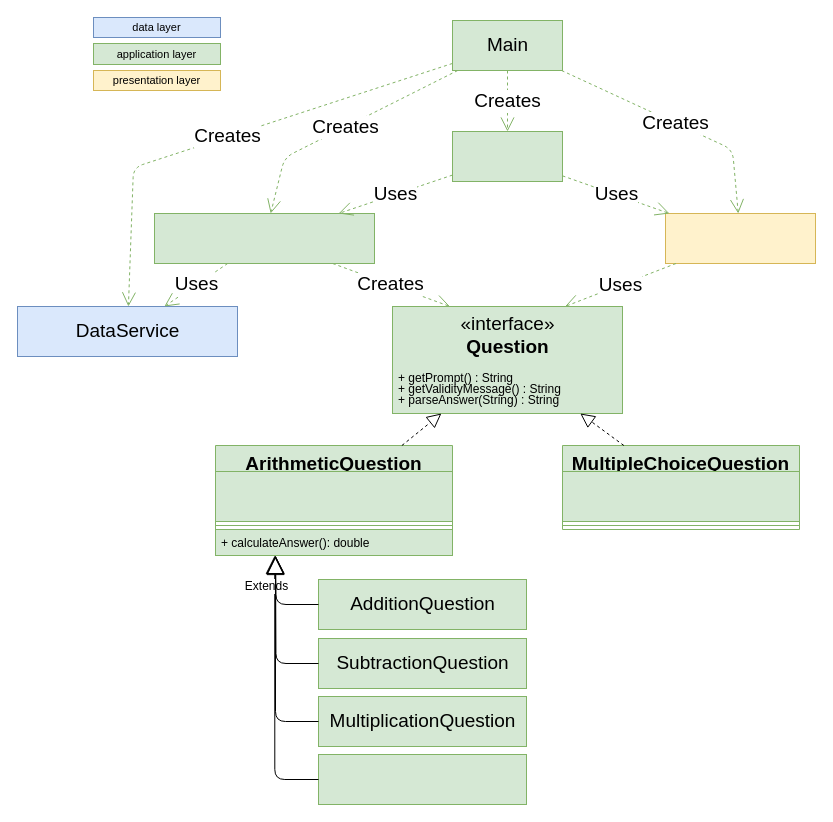
Some shapes in this 833 by 822 pixel diagram are drawn without their labels. The centre of each missing label's shape, as x and y in pixels:
"- operand1: int - operand2: int - operatorSymbol: String" belongs at pixel 333 496.
"- questionText: String - choices: String[] - correctIdx: int" belongs at pixel 681 496.
"App" belongs at pixel 507 156.
"ConsoleUI" belongs at pixel 740 238.
"DivisionQuestion" belongs at pixel 422 779.
"QuestionFactory" belongs at pixel 264 238.
